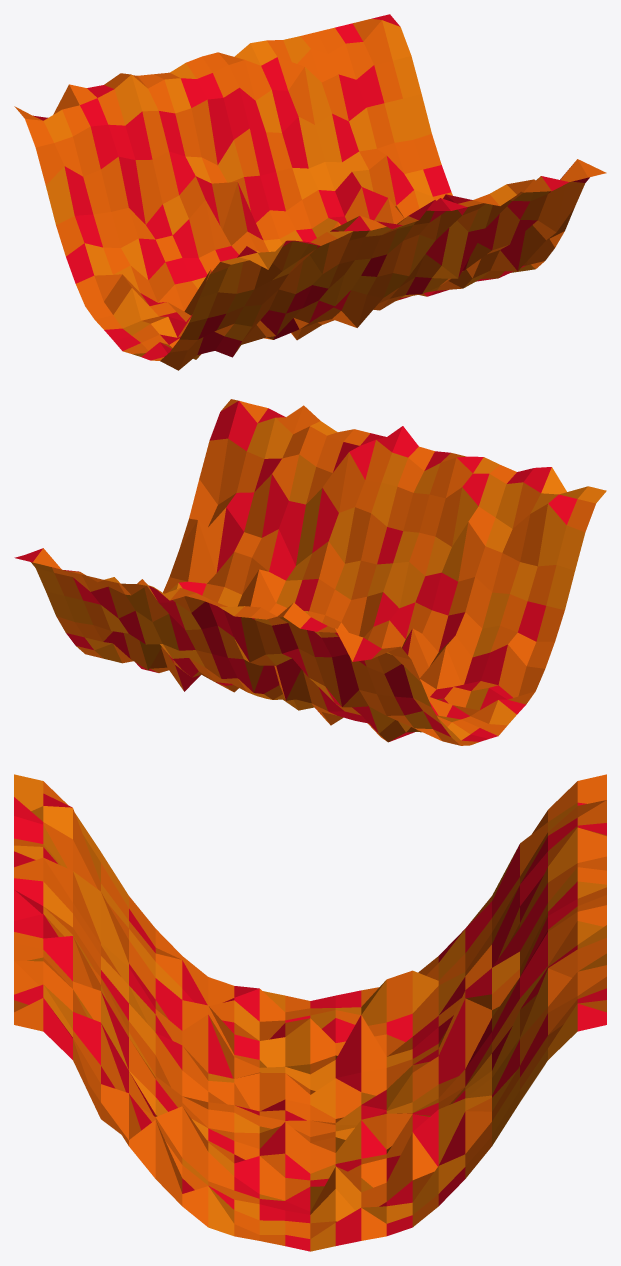
Rendered from canyon3.fbx.
3 views of the same model, one above another, from view 1: azimuth 30°, elevation 25°; view 2: azimuth 150°, elevation 25°; view 3: azimuth 270°, elevation 25° (orthographic). The views are drawn at different scales.
Visible parts, largest first — view 1: Plane.002; view 2: Plane.002; view 3: Plane.002.
Boxes of the visible parts, x1,y1,x2,y2 form: Plane.002: (14, 14, 606, 370); Plane.002: (14, 399, 606, 745); Plane.002: (14, 774, 606, 1251).
Bounding box in the file's own units: 1000 × 505 × 1000.
